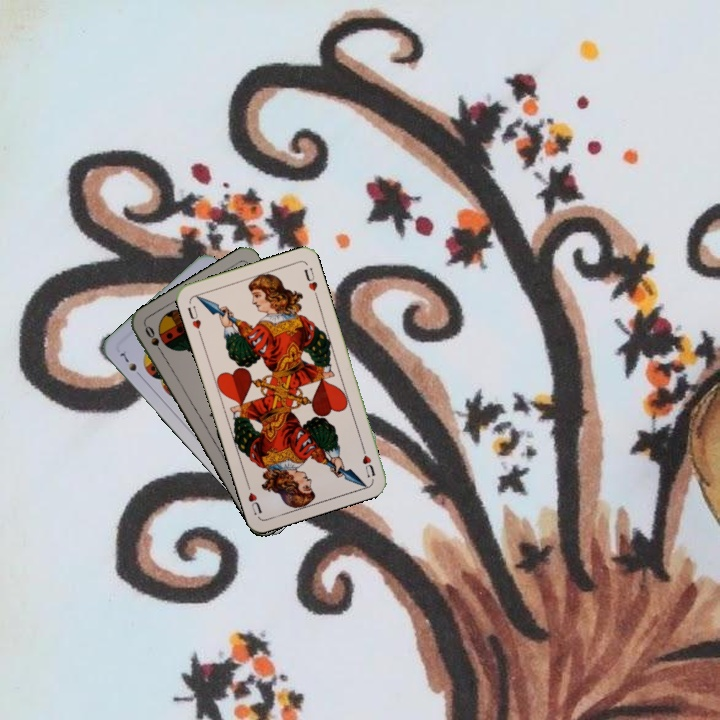HU: (357, 441, 378, 480), (183, 302, 204, 332)
S7: (116, 348, 145, 381)
SO: (141, 322, 167, 359)
